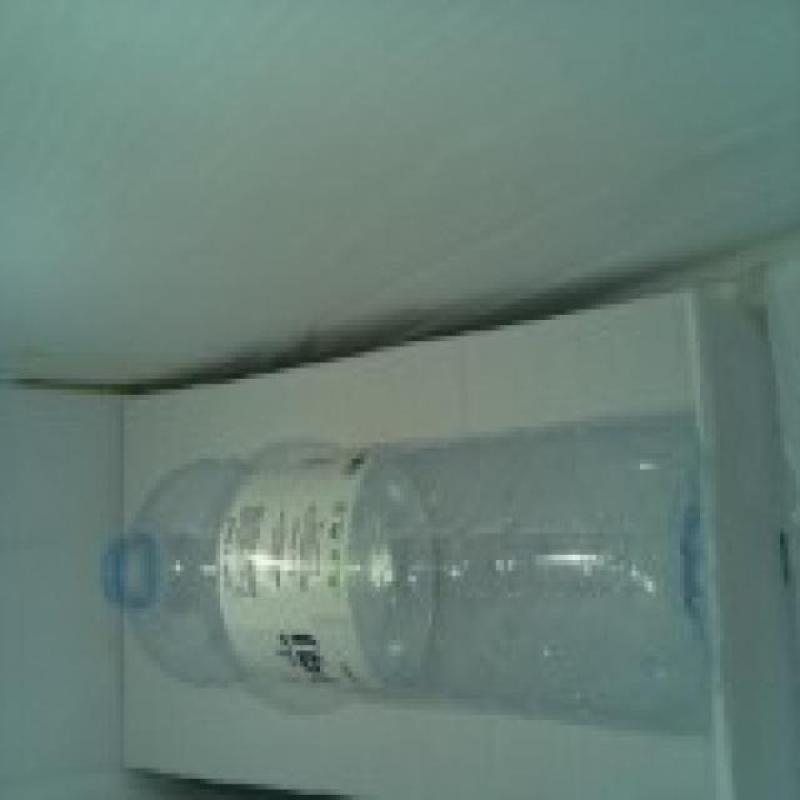botella: (98, 426, 710, 736)
